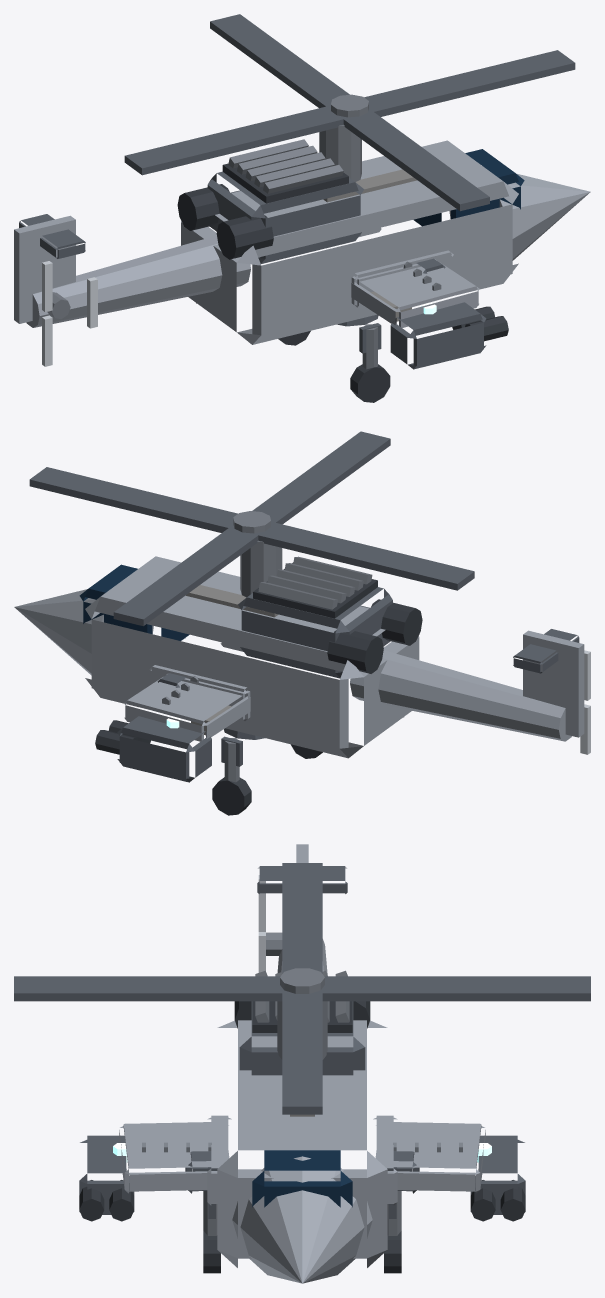
File: con_vulture.glb
3 renders of one model, top to bottom at view 1: azimuth 30°, elevation 25°; view 2: azimuth 150°, elevation 25°; view 3: azimuth 270°, elevation 25°, orthographic. The views are drawn at different scales.
Visible parts, largest first — view 1: body, spinner; view 2: body, spinner; view 3: body, spinner.
Boxes of the visible parts, x1,y1,x2,y2 form: body: [14, 124, 590, 402]; spinner: [124, 14, 575, 211]; body: [14, 540, 590, 815]; spinner: [29, 431, 474, 626]; body: [79, 844, 525, 1283]; spinner: [14, 863, 590, 1114].
Bounding box in the file's own units: 39.65 × 17.42 × 29.9.
